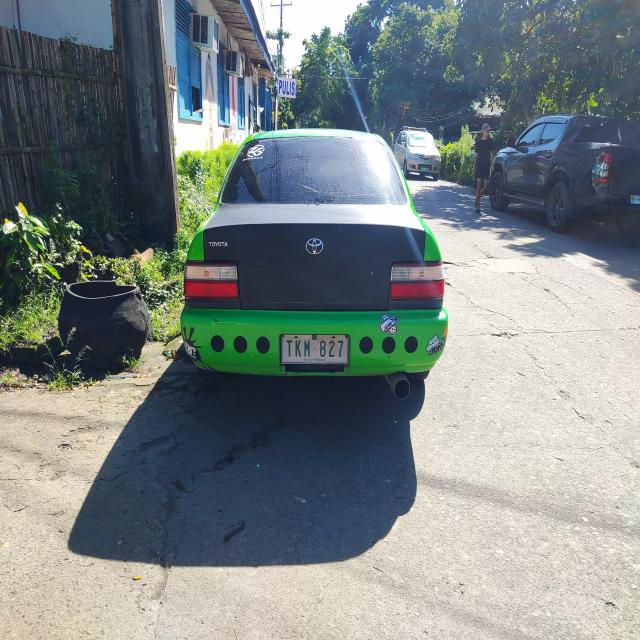plate: (280, 332, 350, 366)
